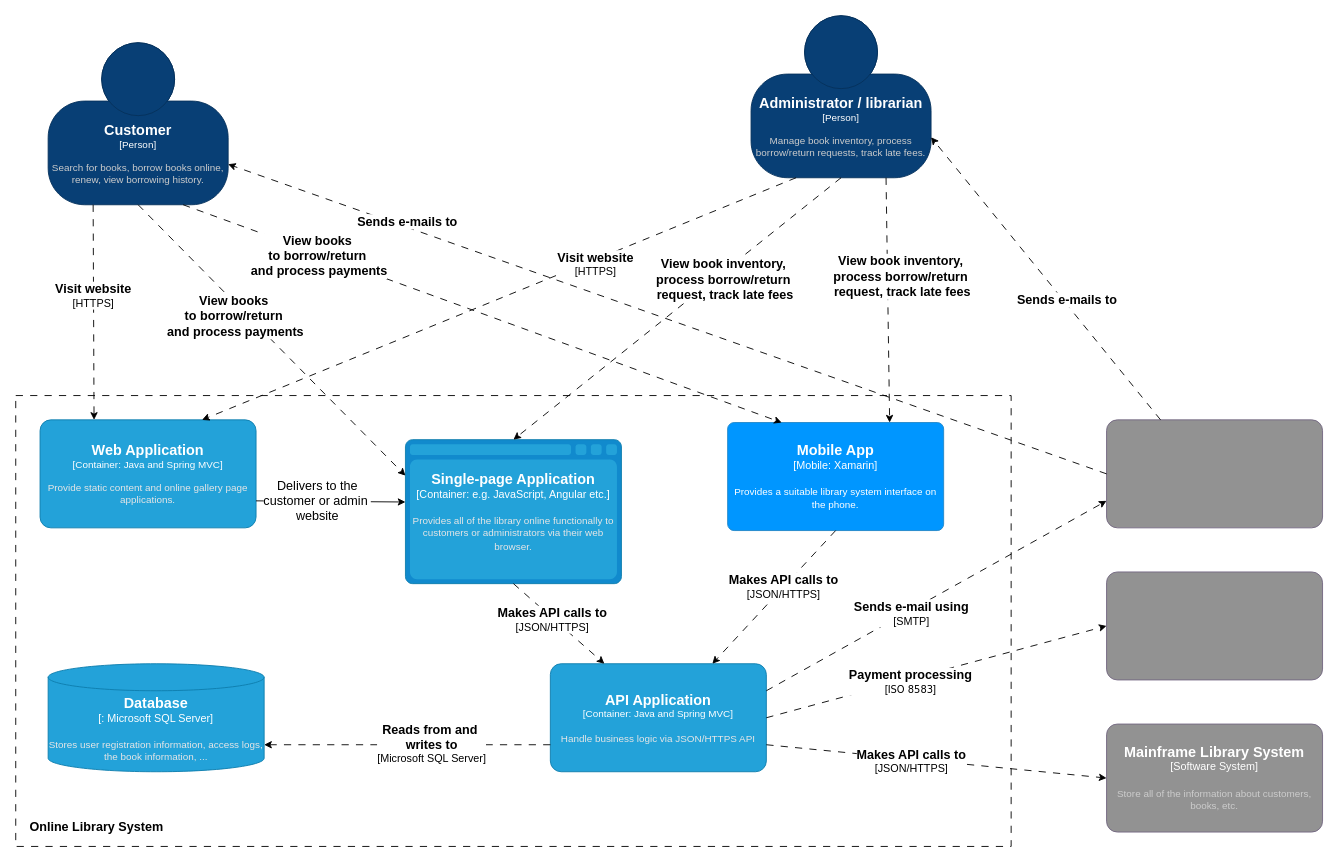
The diagram is 1338 pixels wide and 862 high, and some of its shapes have lost their labels. Each missing label, with the box of its shape:
E-mail System [Software System] Automated processing of notification emails.: (1106, 419, 1323, 528)
Payment Gateway [Software System] Process membership fees or late fees.: (1106, 571, 1323, 680)
